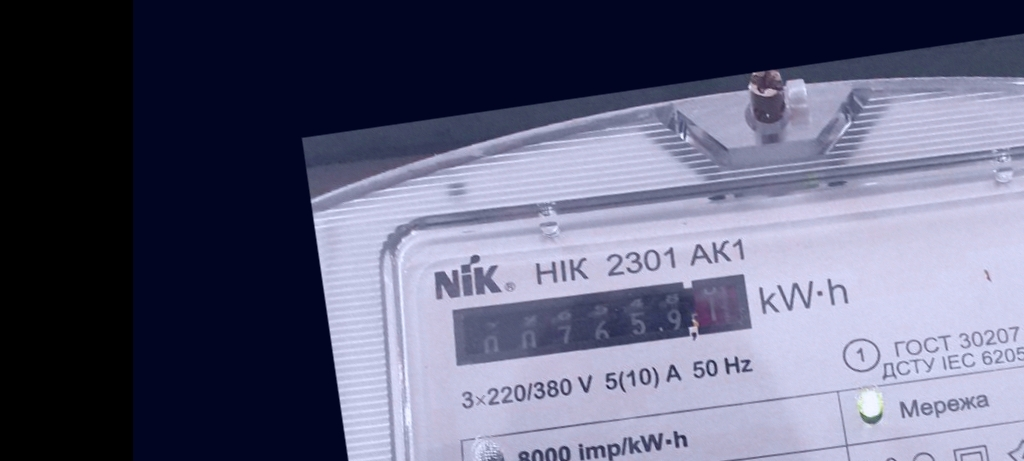0: (519, 326, 541, 354), (481, 331, 502, 359)
1: (705, 293, 723, 327)
5: (626, 308, 652, 338)
6: (591, 317, 613, 343)
7: (554, 322, 578, 350)
9: (664, 305, 686, 335)
screen: (439, 255, 766, 389)
